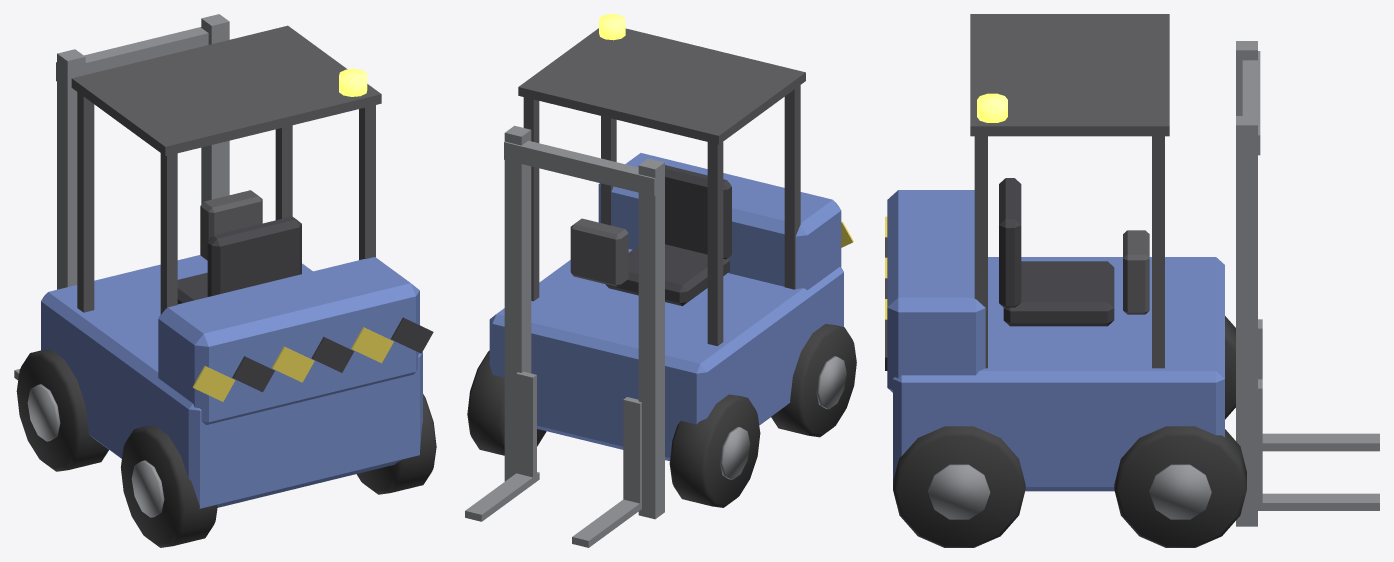
The model's file is v_bp_loader.glb.
3 renders of one model, left to right at view 1: azimuth 30°, elevation 25°; view 2: azimuth 150°, elevation 25°; view 3: azimuth 270°, elevation 25°, orthographic. The views are drawn at different scales.
Visible parts, largest first — view 1: Loader; view 2: Loader; view 3: Loader.
Boxes of the visible parts, bbox=[...] form: Loader: bbox=[14, 14, 436, 547]; Loader: bbox=[465, 14, 856, 547]; Loader: bbox=[885, 14, 1379, 547].
Bounding box in the file's own units: 1.47 × 2.15 × 2.24.
